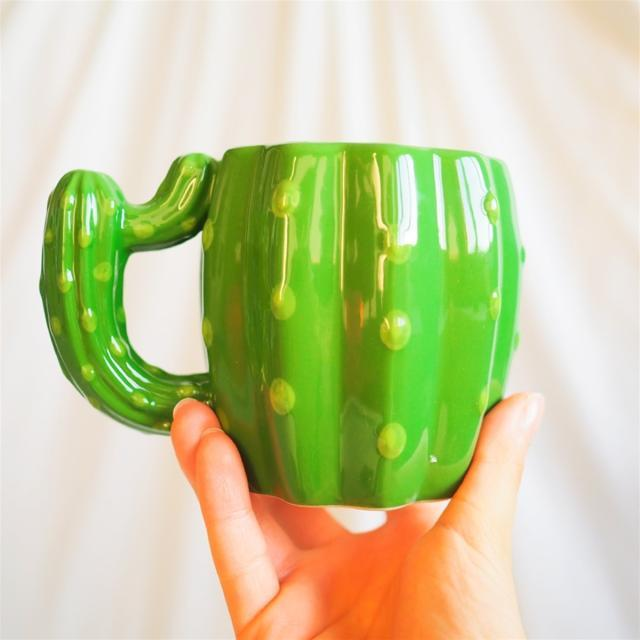Coffee Mug: (41, 140, 528, 510)
